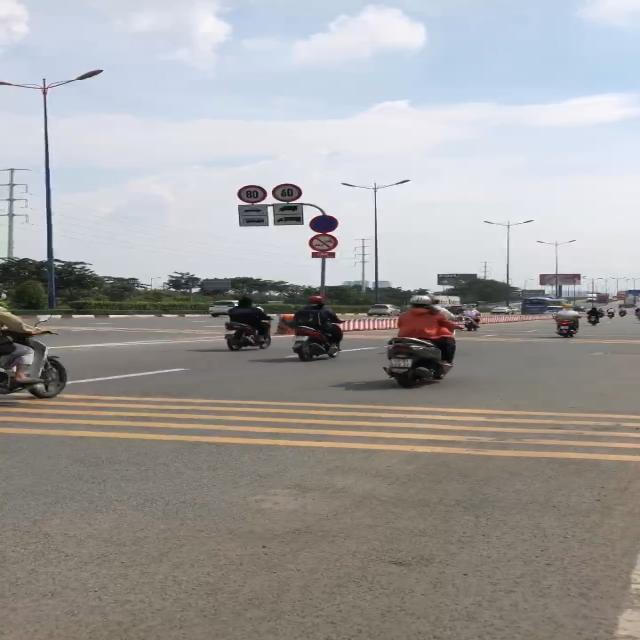Bien bao toc do toi da cho phep: (235, 184, 269, 206), (271, 182, 303, 203)
